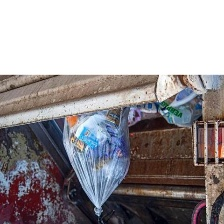plastic_bag: (55, 100, 134, 218), (156, 93, 206, 130)
